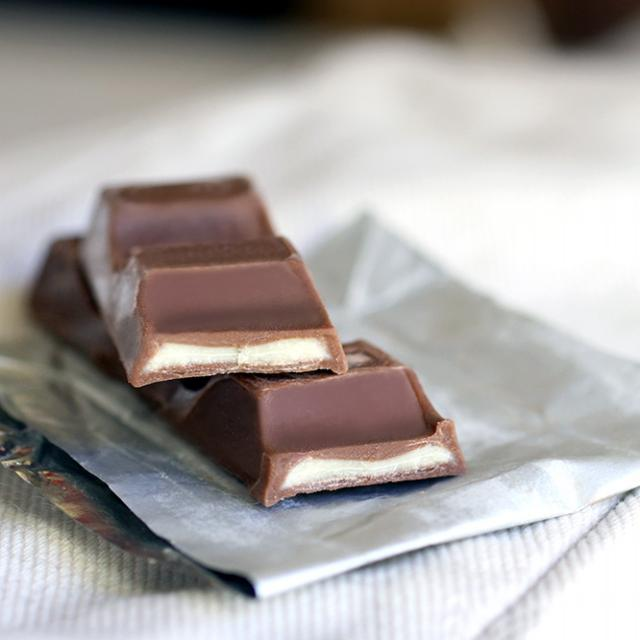Chocolate bar packaged: (32, 233, 471, 511), (79, 178, 347, 386)
